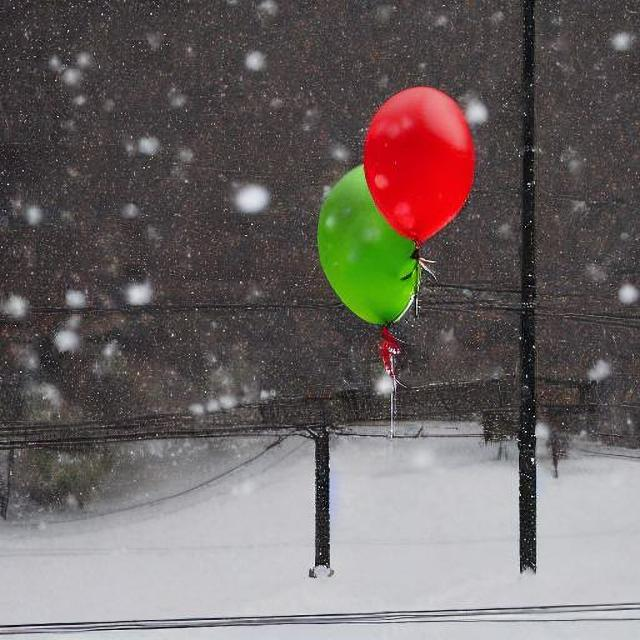balloon: (302, 85, 494, 374)
